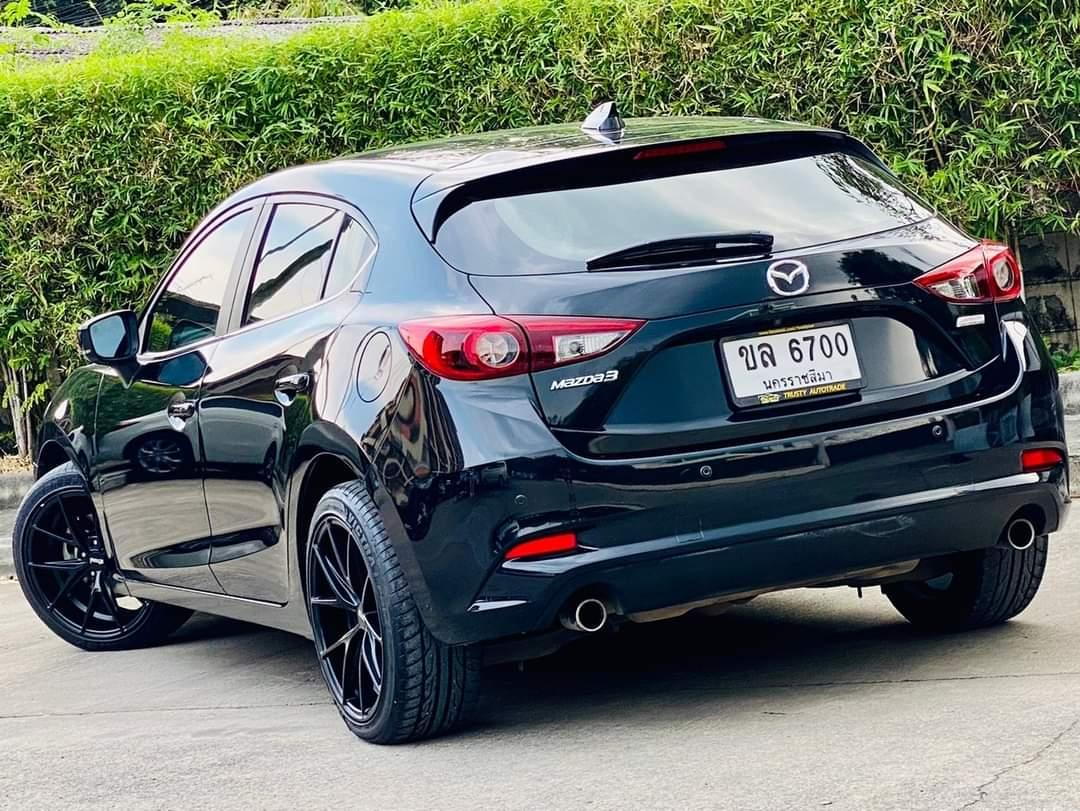license-plate: (718, 318, 870, 426)
